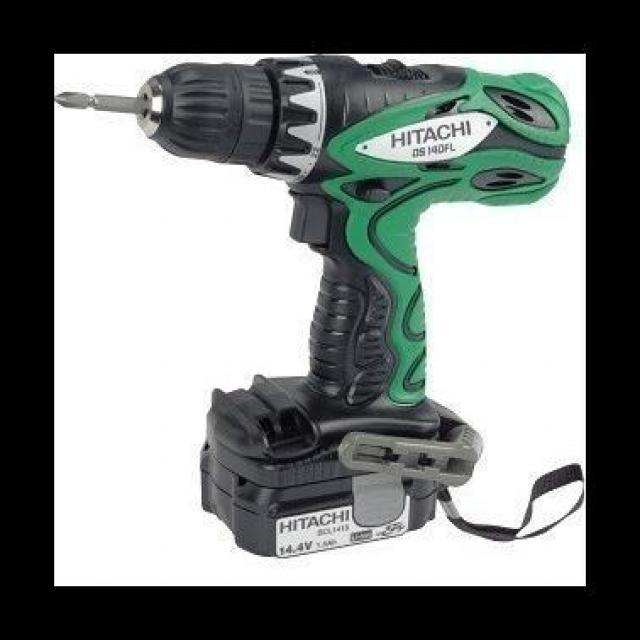drill: (55, 54, 570, 560)
